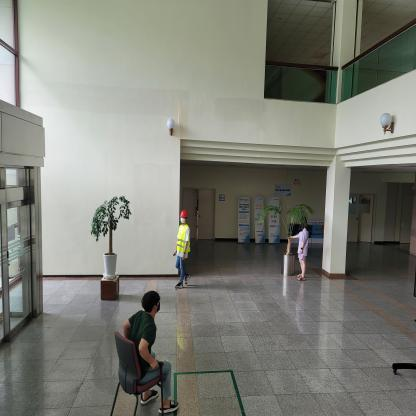Sitting: (122, 290, 179, 415)
Standing: (173, 208, 192, 288), (288, 218, 310, 280)
safety_equipment: (175, 224, 191, 252), (180, 209, 188, 219)
